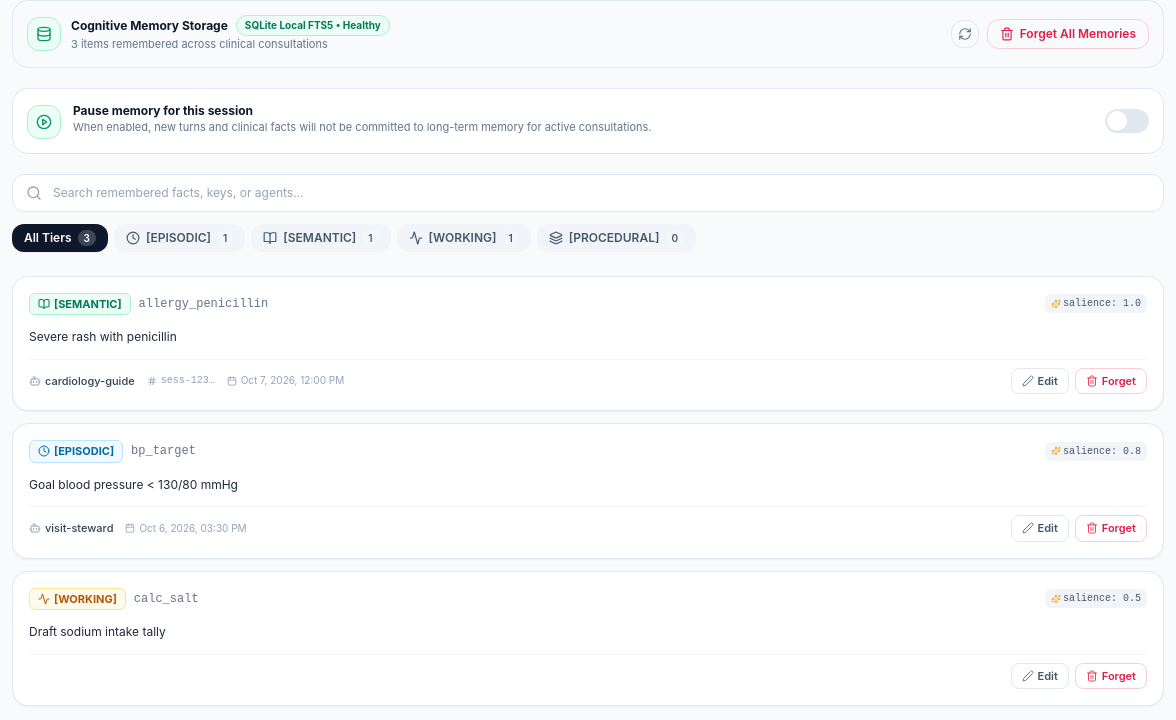
Test: MemoryManagementPanel Component › filters memories by keyword search input
Expected: the text "Severe rash with penicillin" is shown, x1=29 y1=329 x2=177 y2=344
Type "blood pressure" into the field with test id "memory-search-input". click: (588, 192)
box: x1=12 y1=174 x2=1164 y2=212
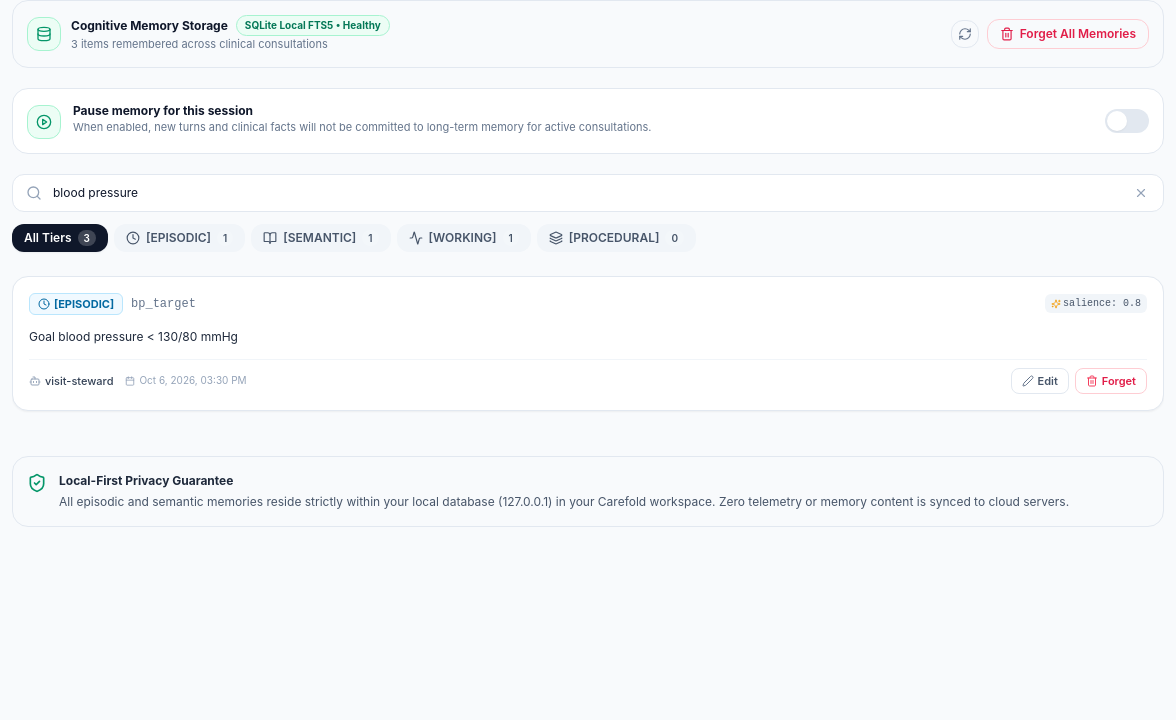
Expected: the text "Goal blood pressure < 130/80 mmHg" is shown, x1=29 y1=329 x2=238 y2=344
Expected: the text "Severe rash with penicillin" is gone
Expected: the text "Draft sodium intake tally" is gone
# Clear search button
Click the button with test id "clear-memory-search-btn". click: (1141, 192)
box: x1=1130 y1=182 x2=1152 y2=204
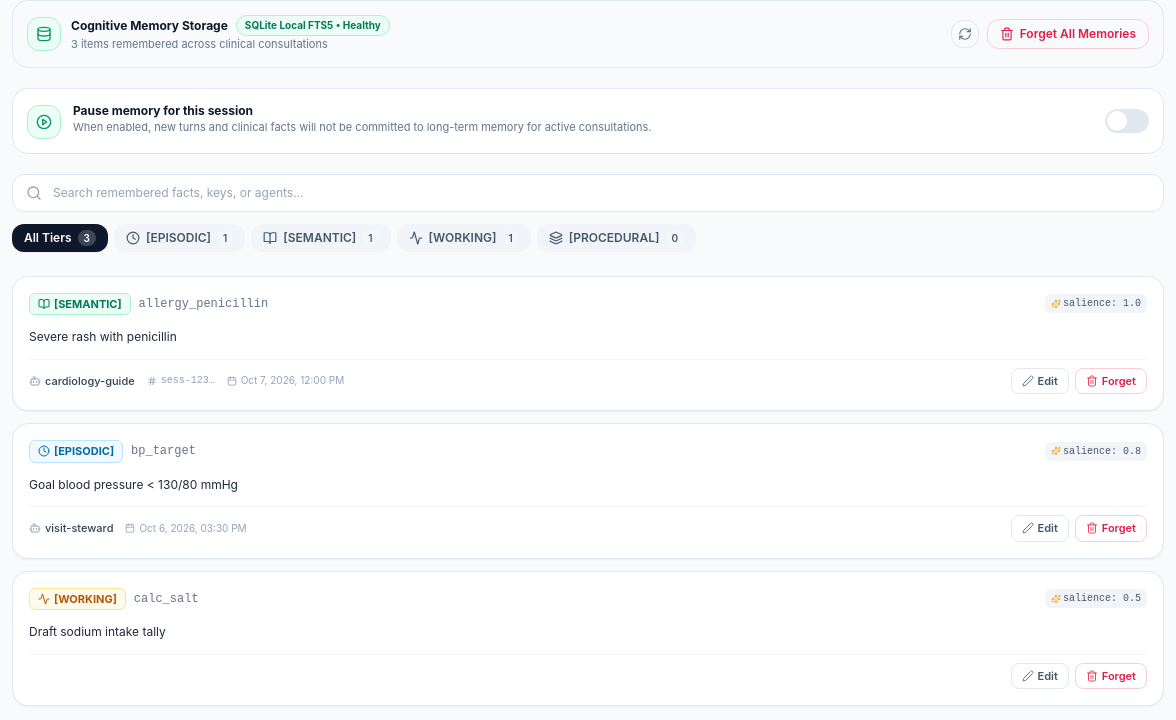
Expected: the text "Severe rash with penicillin" is shown, x1=29 y1=329 x2=177 y2=344
